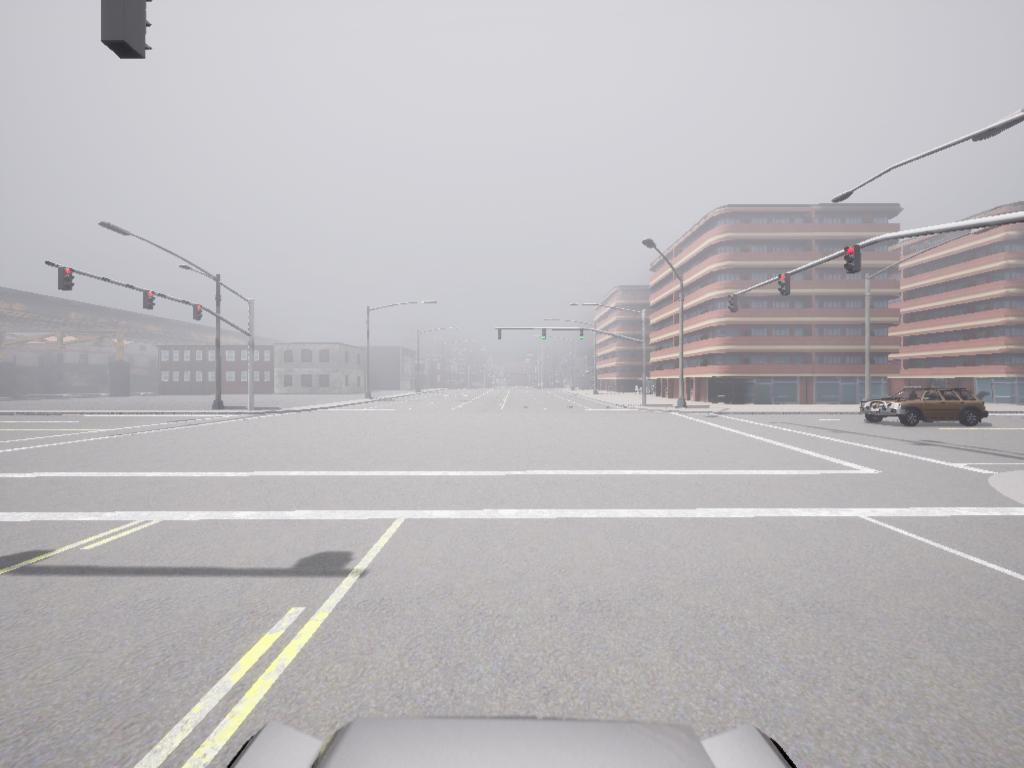traffic_light: (844, 248, 862, 277), (62, 268, 78, 292), (729, 294, 741, 315), (146, 289, 157, 311), (778, 276, 789, 297), (194, 304, 204, 322), (541, 329, 548, 345), (579, 328, 586, 343), (498, 329, 504, 343)
